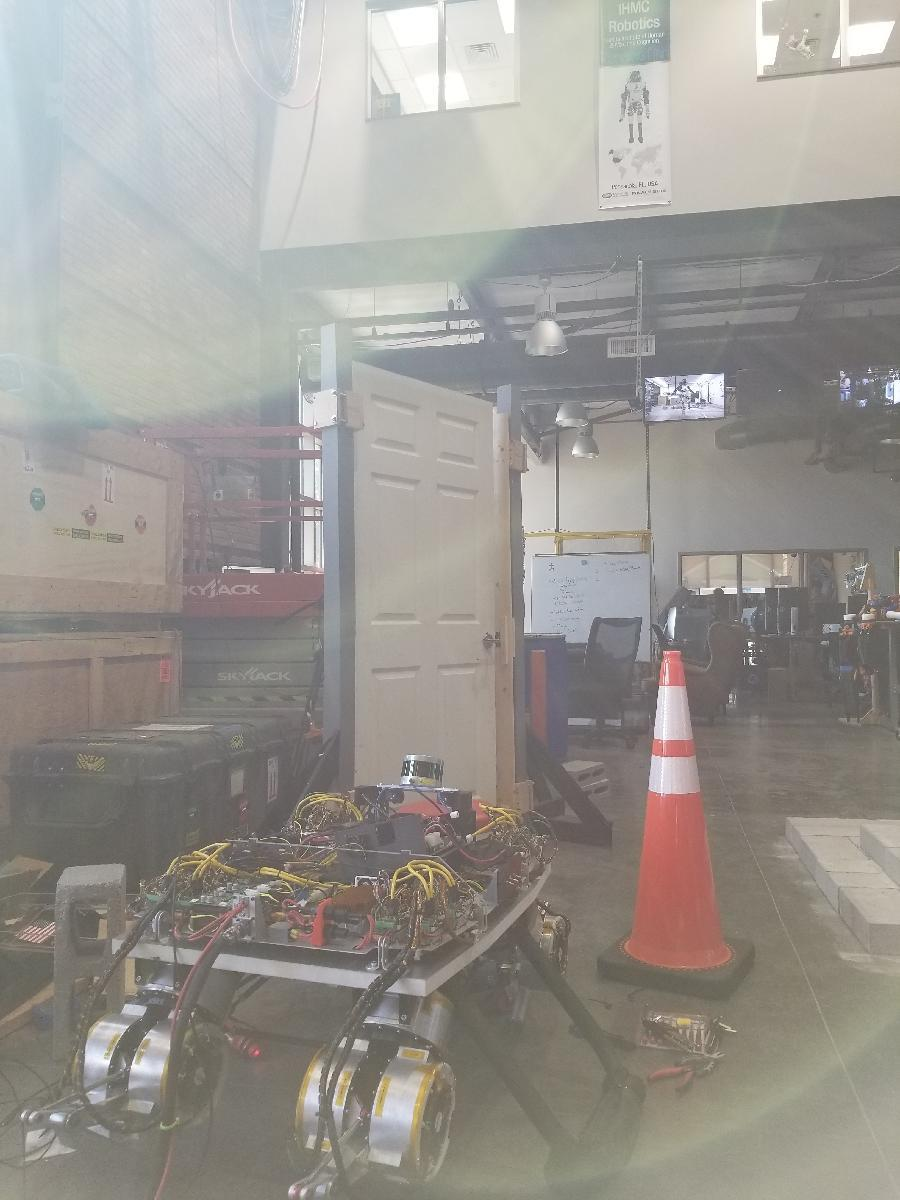door: (358, 360, 503, 902)
handle: (480, 631, 504, 652)
